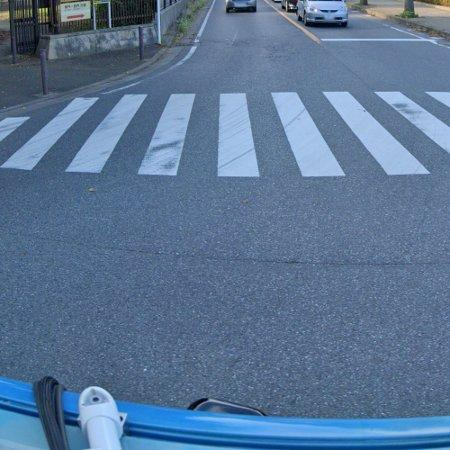crosswalks: (0, 89, 450, 179)
